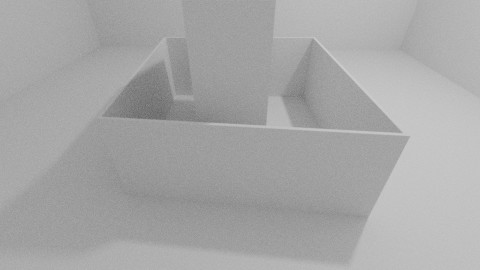cheminee: (181, 1, 276, 184)
eaf: (101, 117, 403, 214)
